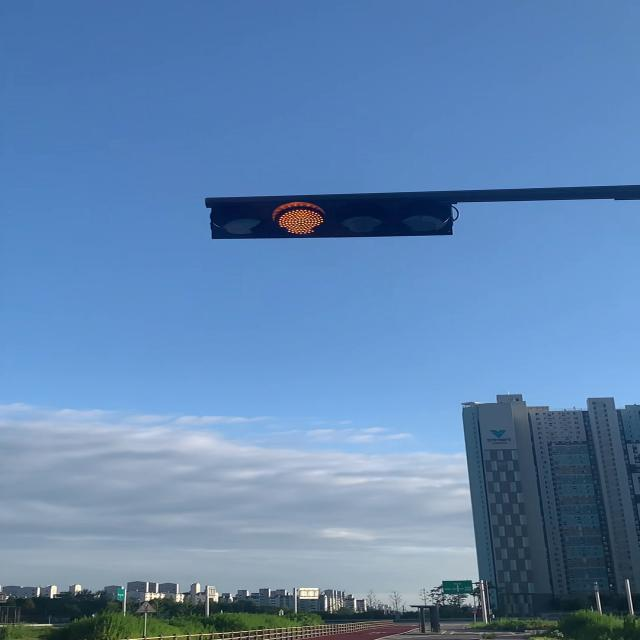yellow_light: (212, 195, 450, 238)
